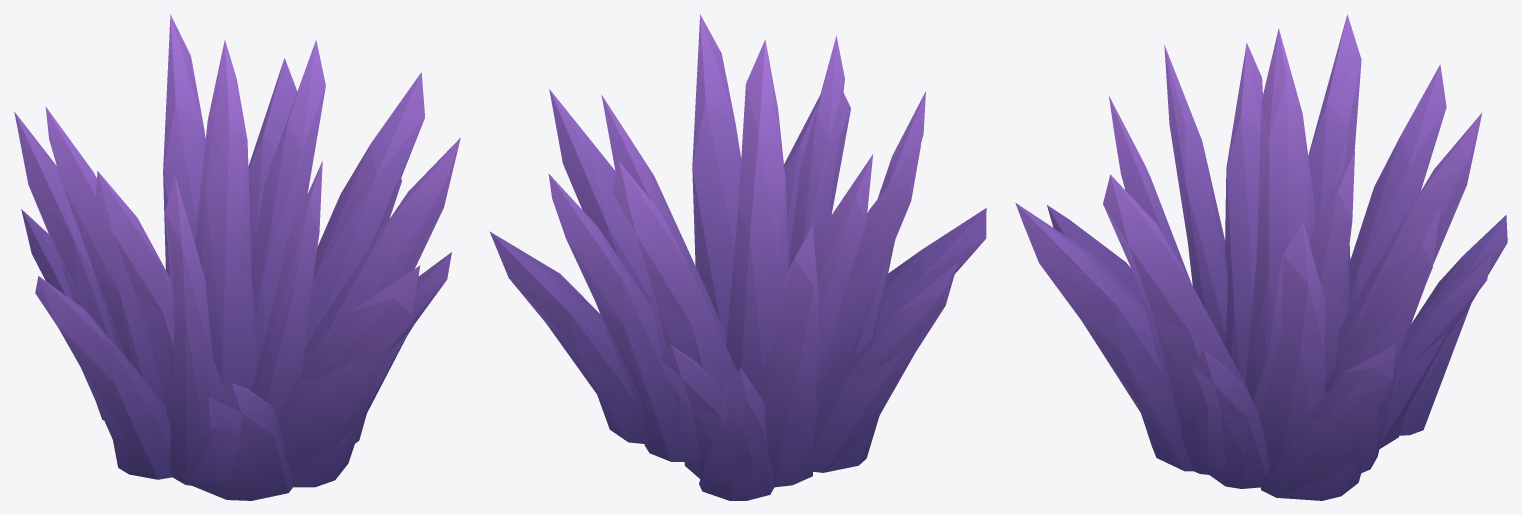
File: Crystal_P_1.glb
3 renders of one model, left to right at view 1: azimuth 30°, elevation 25°; view 2: azimuth 150°, elevation 25°; view 3: azimuth 270°, elevation 25°, orthographic. The views are drawn at different scales.
Visible parts, largest first — view 1: crystal_1; view 2: crystal_1; view 3: crystal_1.
Boxes of the visible parts, x1,y1,x2,y2 form: crystal_1: [14, 14, 460, 500]; crystal_1: [489, 14, 986, 500]; crystal_1: [1015, 14, 1507, 500].
Size of the model in its own units: 0.9733 by 0.9104 by 1.
Materials: 1 (1 with a texture image).
